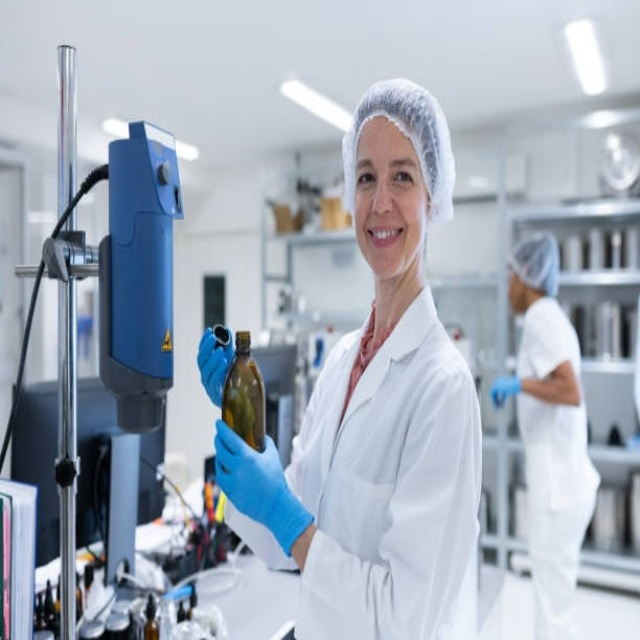Guantes: (214, 418, 313, 556), (197, 325, 234, 410), (490, 375, 522, 409)
Sin_gafas: (356, 147, 416, 199)
Sin_mascara: (358, 215, 412, 264)
